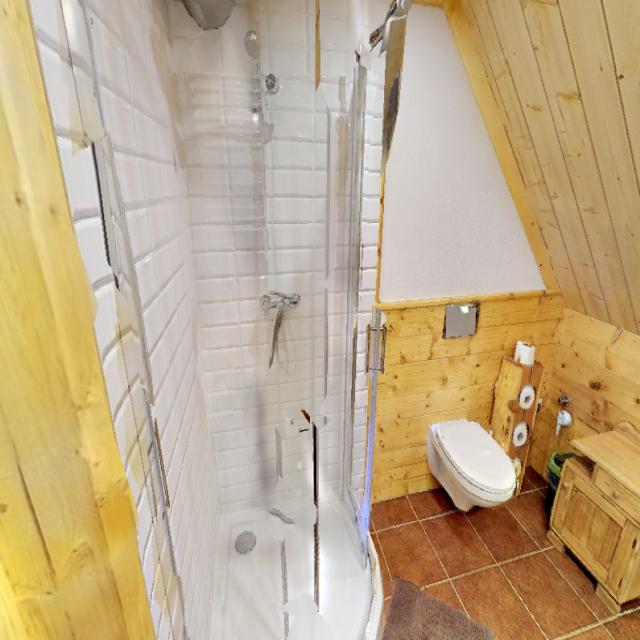shower: (6, 0, 421, 640)
toilet: (415, 406, 527, 535)
